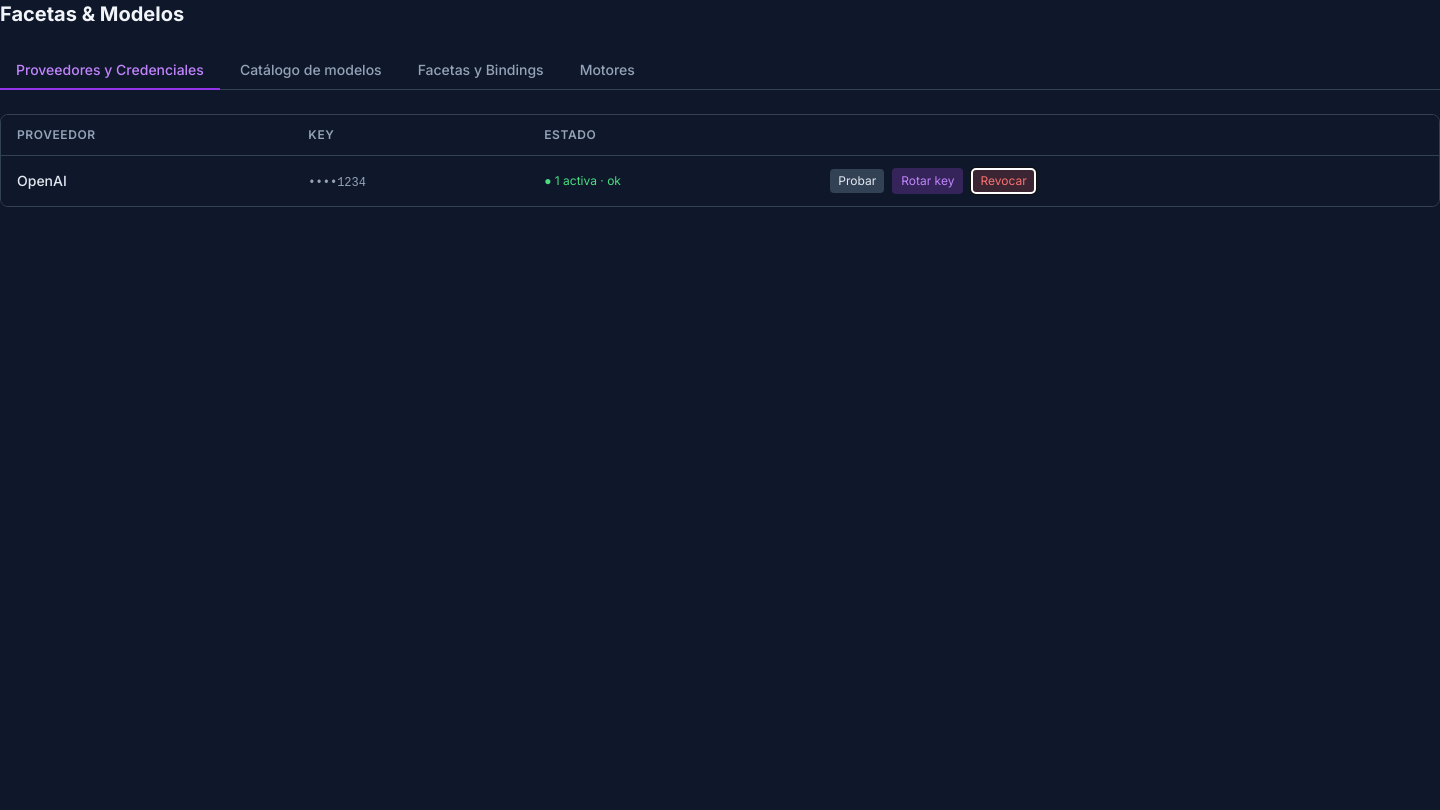
Test: AdminFacetsModels -- credenciales (A-23) › revocar con éxito devuelve el foco al botón que abrió el diálogo, aunque quede disabled en el mismo commit que cierra
The width and height of the screenshot is (1440, 810).
Click the button "Revocar".
click(1004, 181)  # box [972,168,1036,194]
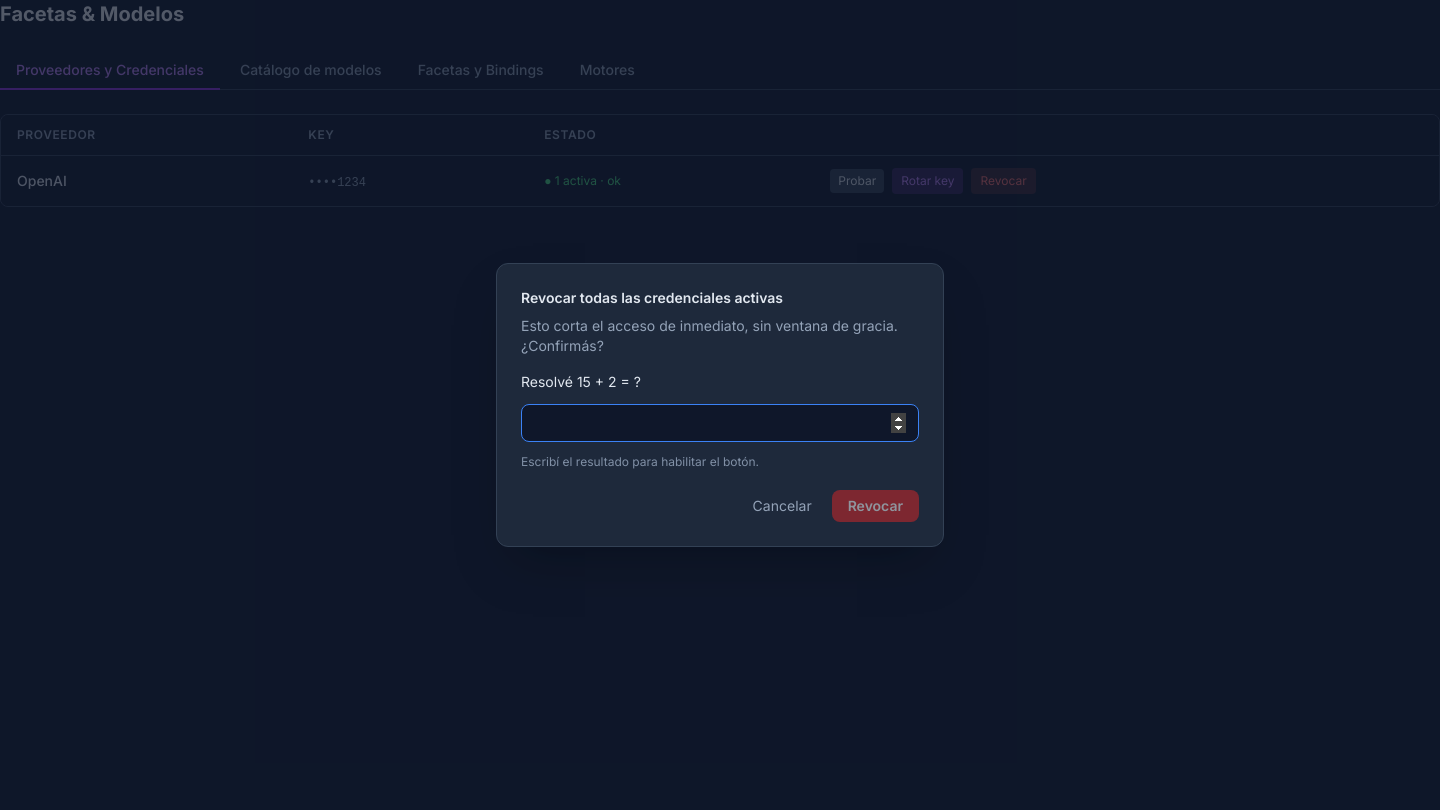
Type "17" into the number field.
click(720, 423); type("17")  # box [521,404,919,442]
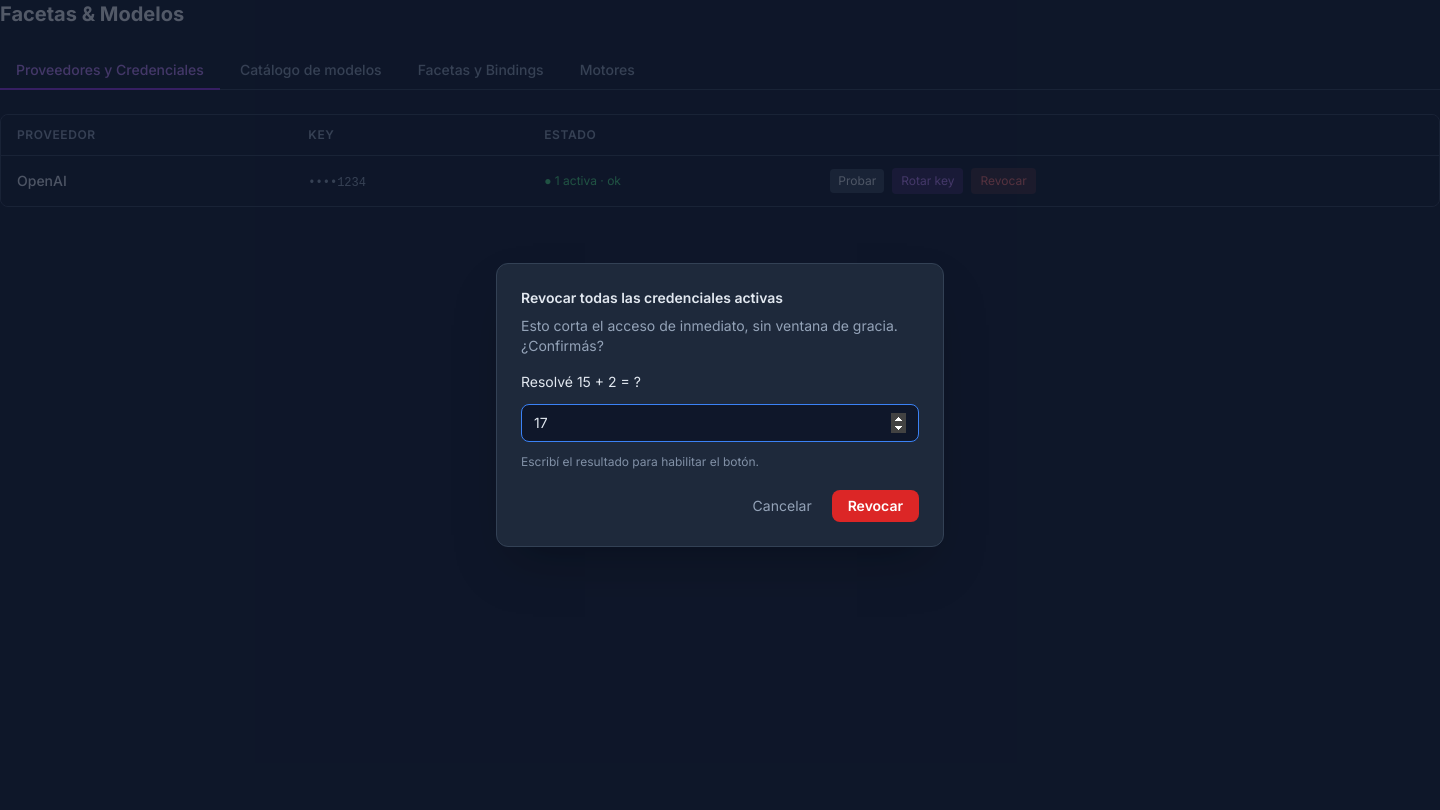
Click the button "Revocar".
click(875, 506)  # box [832,490,919,522]
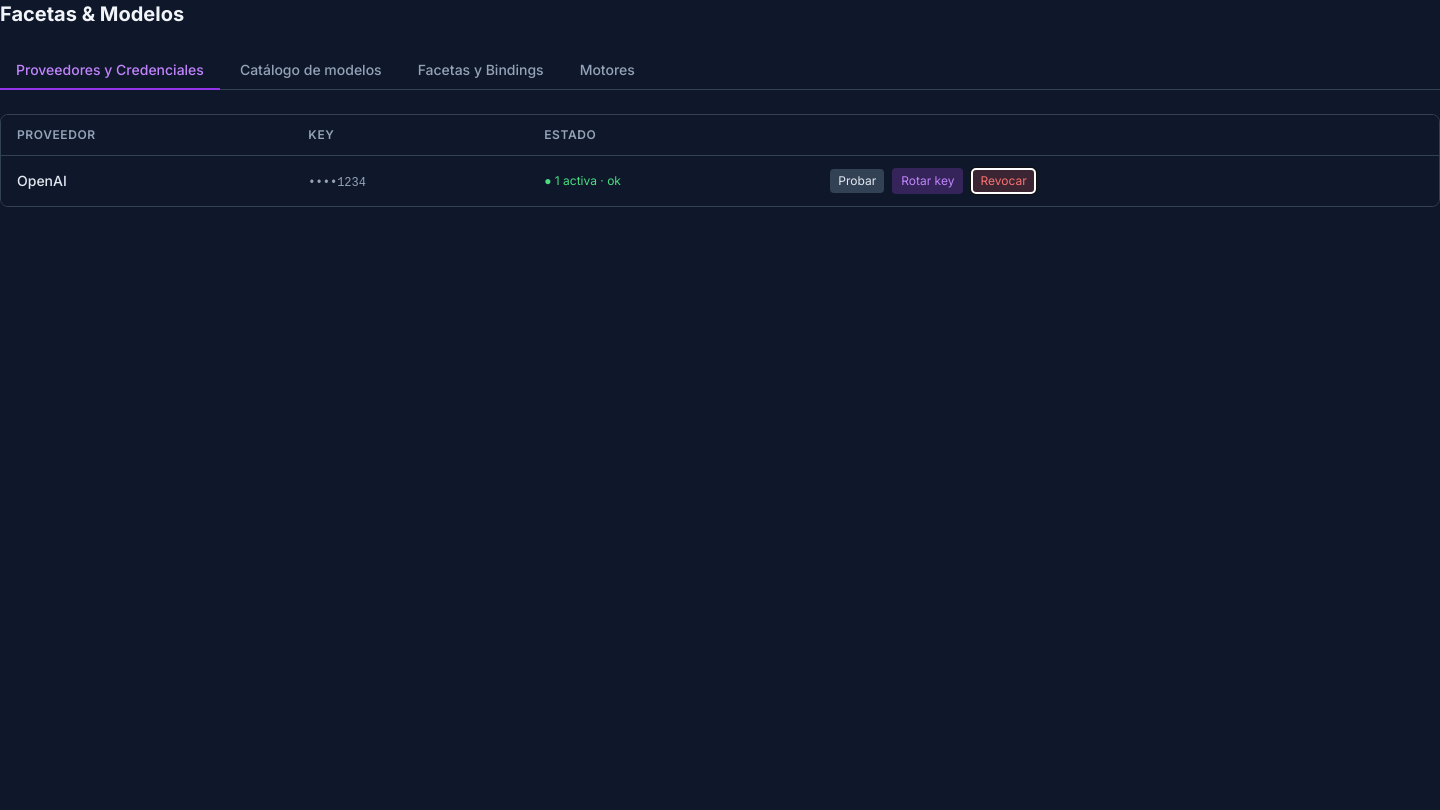
Check: the dialog is gone
